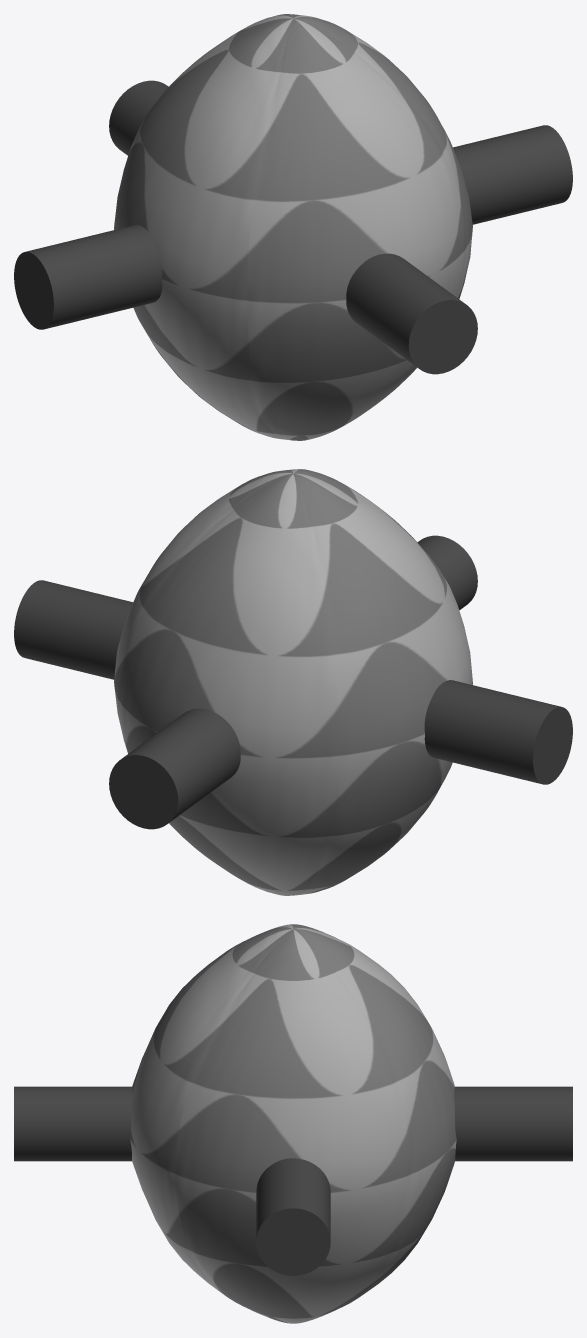
3 renders of one model, top to bottom at view 1: azimuth 30°, elevation 25°; view 2: azimuth 150°, elevation 25°; view 3: azimuth 270°, elevation 25°, orthographic. The views are drawn at different scales.
Visible parts, largest first — view 1: Body(Convex)+Colour(7000000_5000000)+Pattern(Lace)+Smoo_7acb, Arm002, Arm004, Arm001, Arm003; view 2: Body(Convex)+Colour(7000000_5000000)+Pattern(Lace)+Smoo_7acb, Arm002, Arm003, Arm001, Arm004; view 3: Body(Convex)+Colour(7000000_5000000)+Pattern(Lace)+Smoo_7acb, Arm003, Arm004, Arm001.
Boxes of the visible parts, <box> form: Body(Convex)+Colour(7000000_5000000)+Pattern(Lace)+Smoo_7acb: <box>114,14,472,440</box>; Arm002: <box>14,225,162,329</box>; Arm004: <box>346,253,477,374</box>; Arm001: <box>453,125,572,224</box>; Arm003: <box>109,80,168,155</box>; Body(Convex)+Colour(7000000_5000000)+Pattern(Lace)+Smoo_7acb: <box>114,469,472,895</box>; Arm002: <box>424,680,572,784</box>; Arm003: <box>109,708,240,829</box>; Arm001: <box>14,580,132,679</box>; Arm004: <box>417,535,477,610</box>; Body(Convex)+Colour(7000000_5000000)+Pattern(Lace)+Smoo_7acb: <box>130,924,456,1323</box>; Arm003: <box>454,1086,572,1161</box>; Arm004: <box>14,1086,132,1161</box>; Arm001: <box>256,1158,330,1275</box>.
Bounding box in the file's own units: 1.52 × 1.17 × 1.52.
2 materials, 2 textured.
